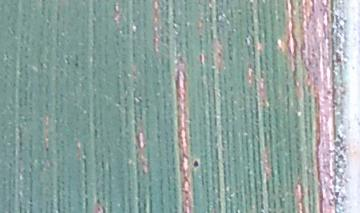tarspot: (189, 155, 203, 174)
